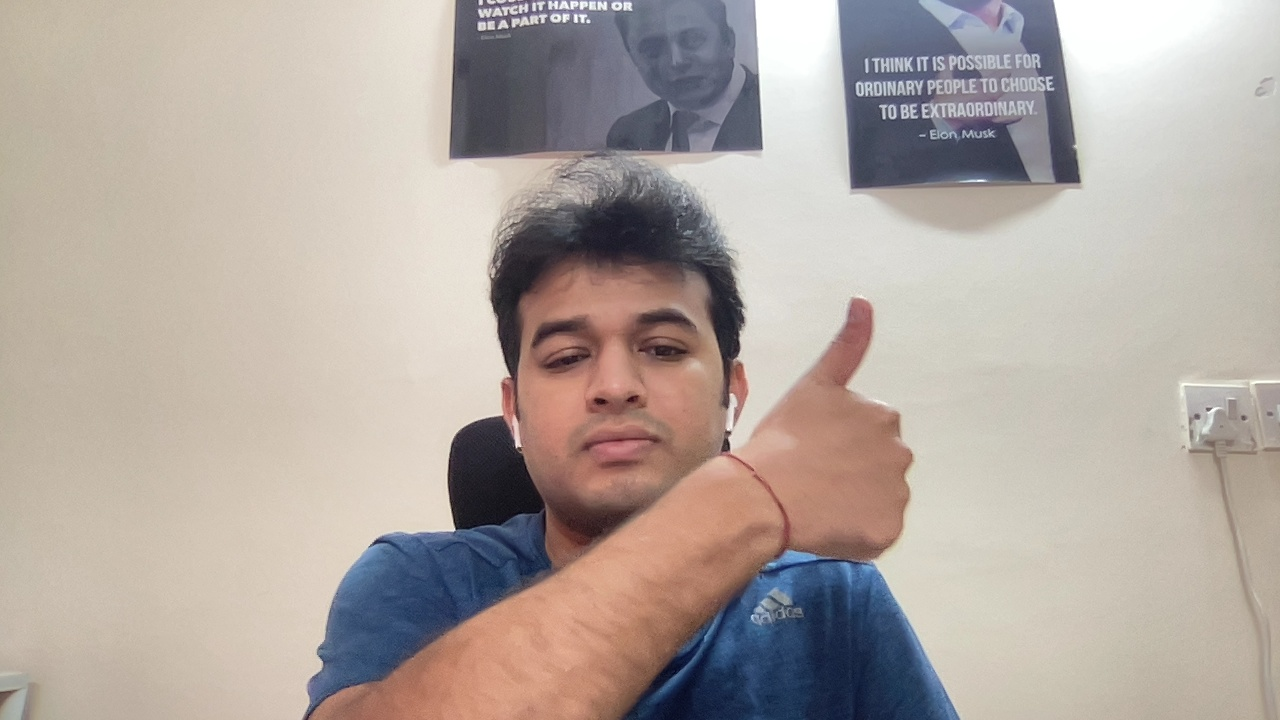up: (757, 278, 921, 573)
